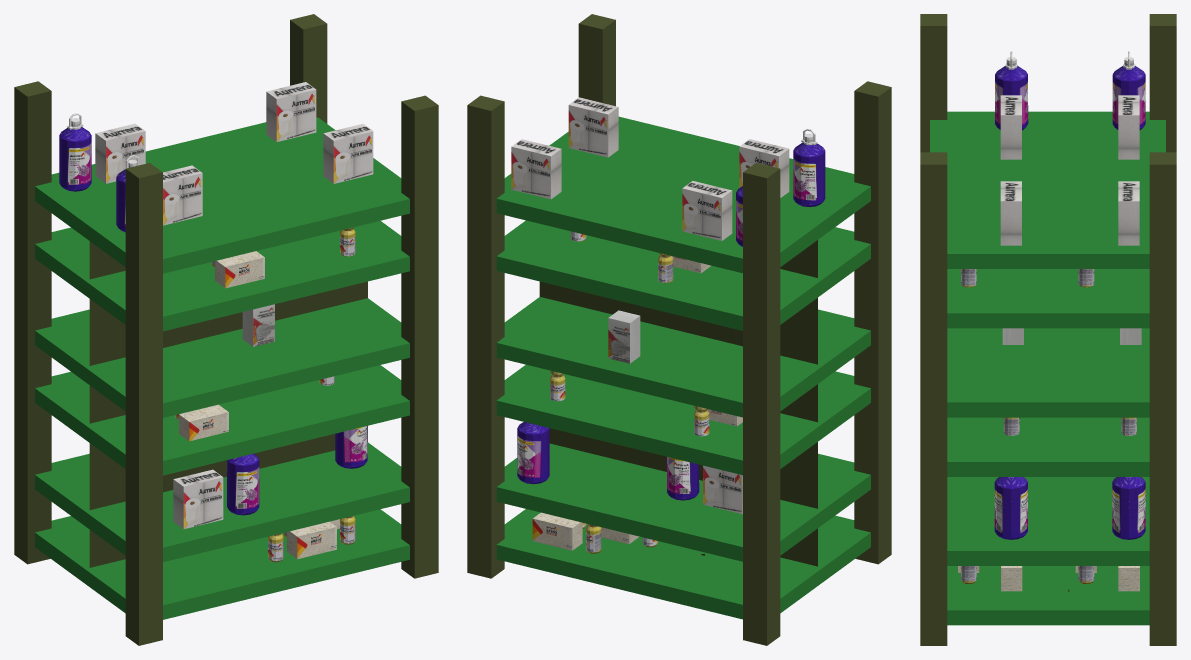
The model's file is almacen_medio.fbx.
The picture shows the model from 3 angles, left to right: view 1: azimuth 30°, elevation 25°; view 2: azimuth 150°, elevation 25°; view 3: azimuth 270°, elevation 25°; orthographic projection. The views are drawn at different scales.
Parts seen in each view (by area): view 1: almacen medio; view 2: almacen medio; view 3: almacen medio.
Boxes of the visible parts, box(x1,y1,x2,y2) form: almacen medio: box(14, 14, 438, 645); almacen medio: box(467, 14, 891, 645); almacen medio: box(920, 14, 1176, 645).
Bounding box in the file's own units: 3333 × 4970 × 2400.
